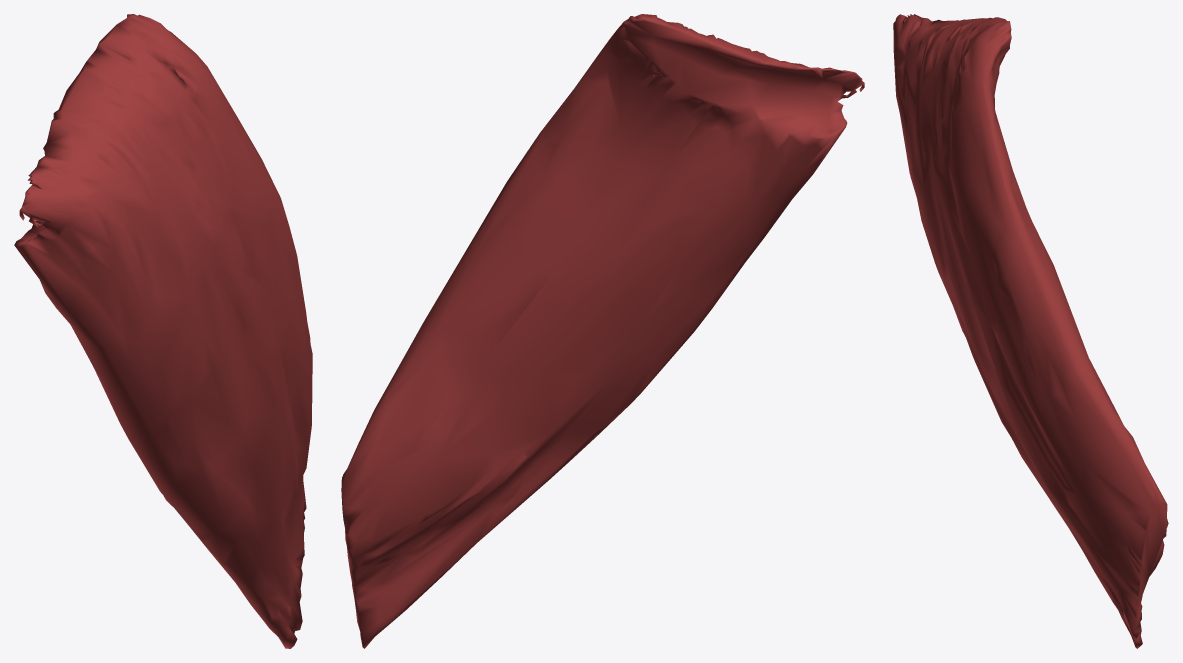
Rendered from pectineus-muscle-l.glb.
The picture shows the model from 3 angles, left to right: view 1: azimuth 30°, elevation 25°; view 2: azimuth 150°, elevation 25°; view 3: azimuth 270°, elevation 25°; orthographic projection. The views are drawn at different scales.
Parts seen in each view (by area): view 1: Pectineus muscle.l; view 2: Pectineus muscle.l; view 3: Pectineus muscle.l.
Part boxes in pixels (box(x1,y1,x2,y2)): Pectineus muscle.l: box(14, 14, 312, 648); Pectineus muscle.l: box(341, 14, 864, 648); Pectineus muscle.l: box(893, 14, 1168, 648).
Size of the model in its own units: 0.0828 by 0.1312 by 0.0606.
